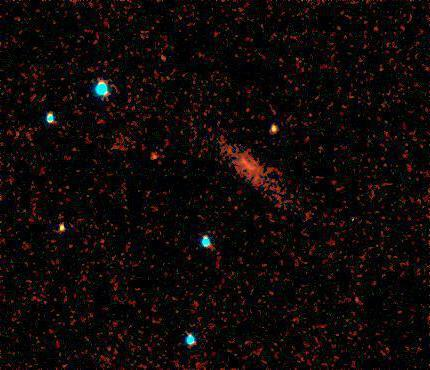star: (343, 285, 373, 315)
